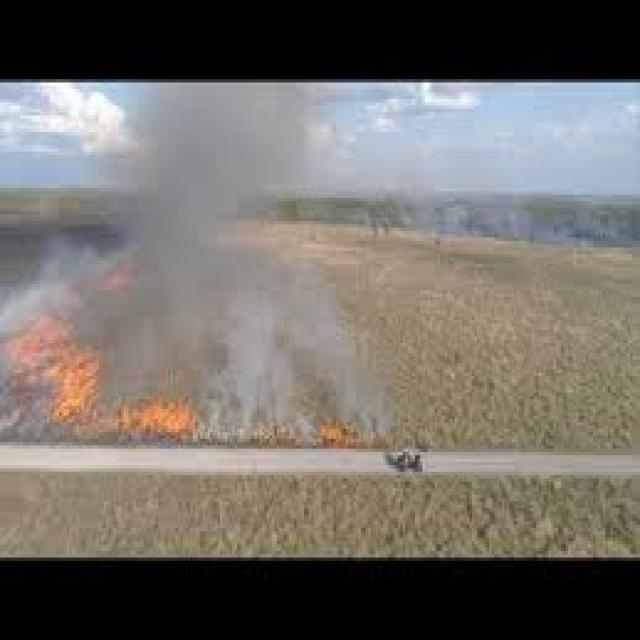Fire: (10, 314, 111, 451), (110, 387, 207, 452)
Smoke: (94, 80, 315, 256), (211, 258, 396, 450), (103, 260, 210, 378)
